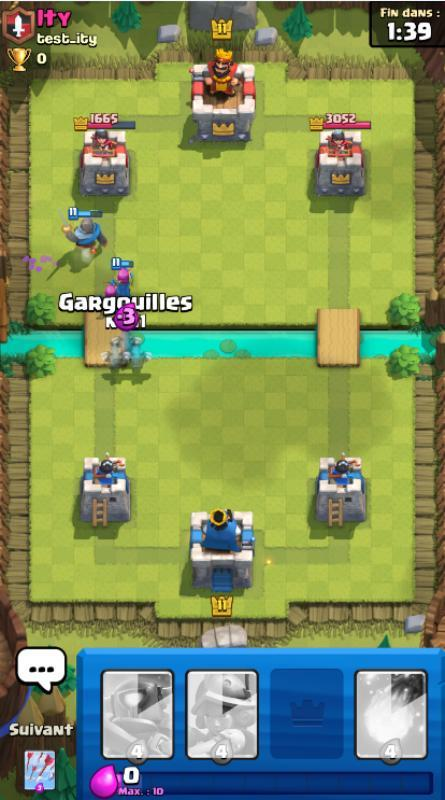archere: (110, 257, 134, 297), (100, 278, 121, 297)
chevalier: (58, 208, 108, 254)
gargouille: (100, 342, 129, 370), (123, 344, 152, 369), (110, 330, 142, 352)
